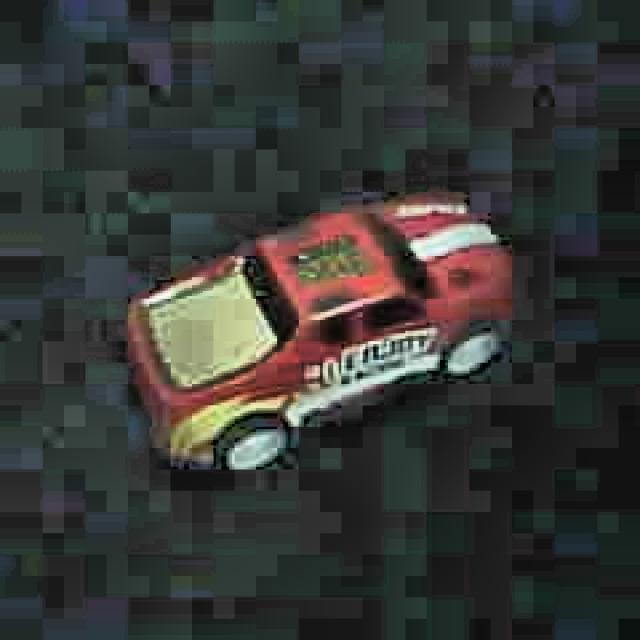car: (120, 190, 518, 482)
